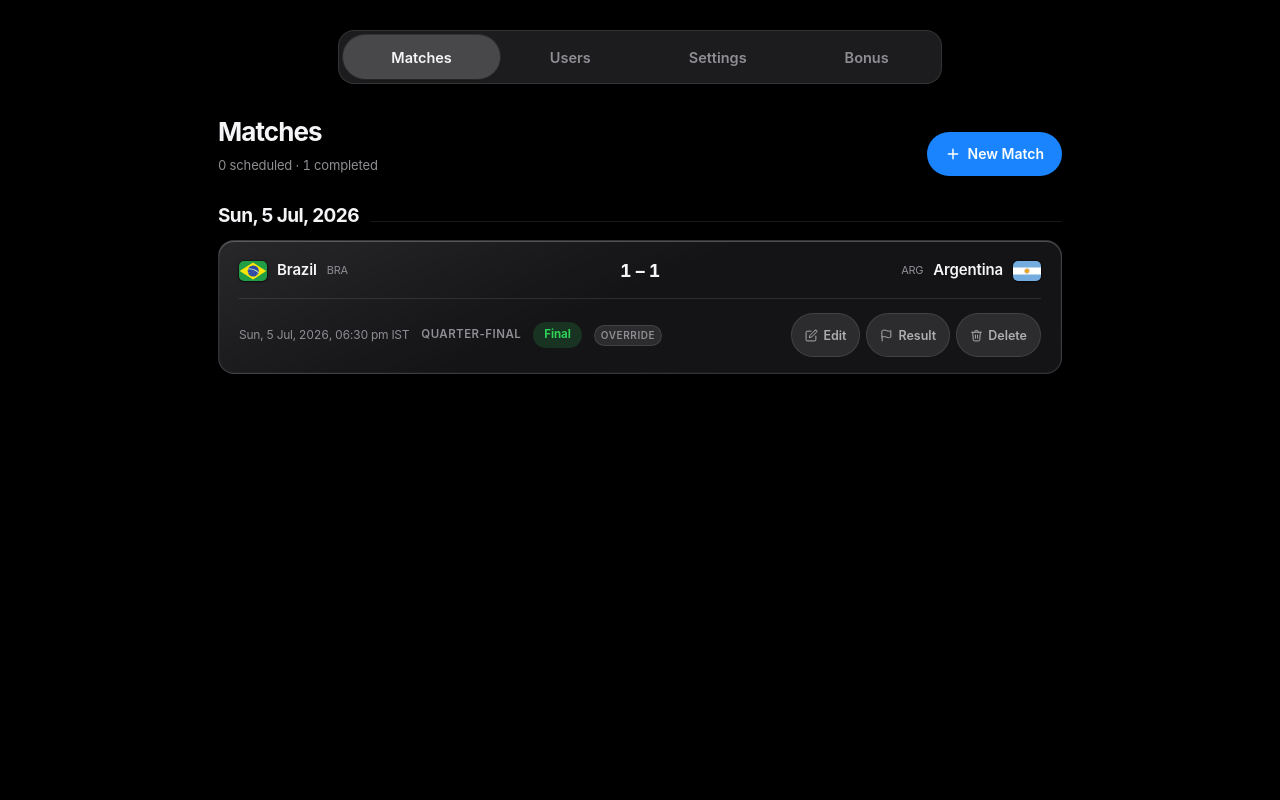
Admin screen — matches tab › reveals penalty-winner picker only when stage=knockout AND went_to_penalties is checked
Click the button with aria-label "Set result for Brazil vs Argentina".
click(908, 335)  # box left=866, top=313, right=950, bottom=357
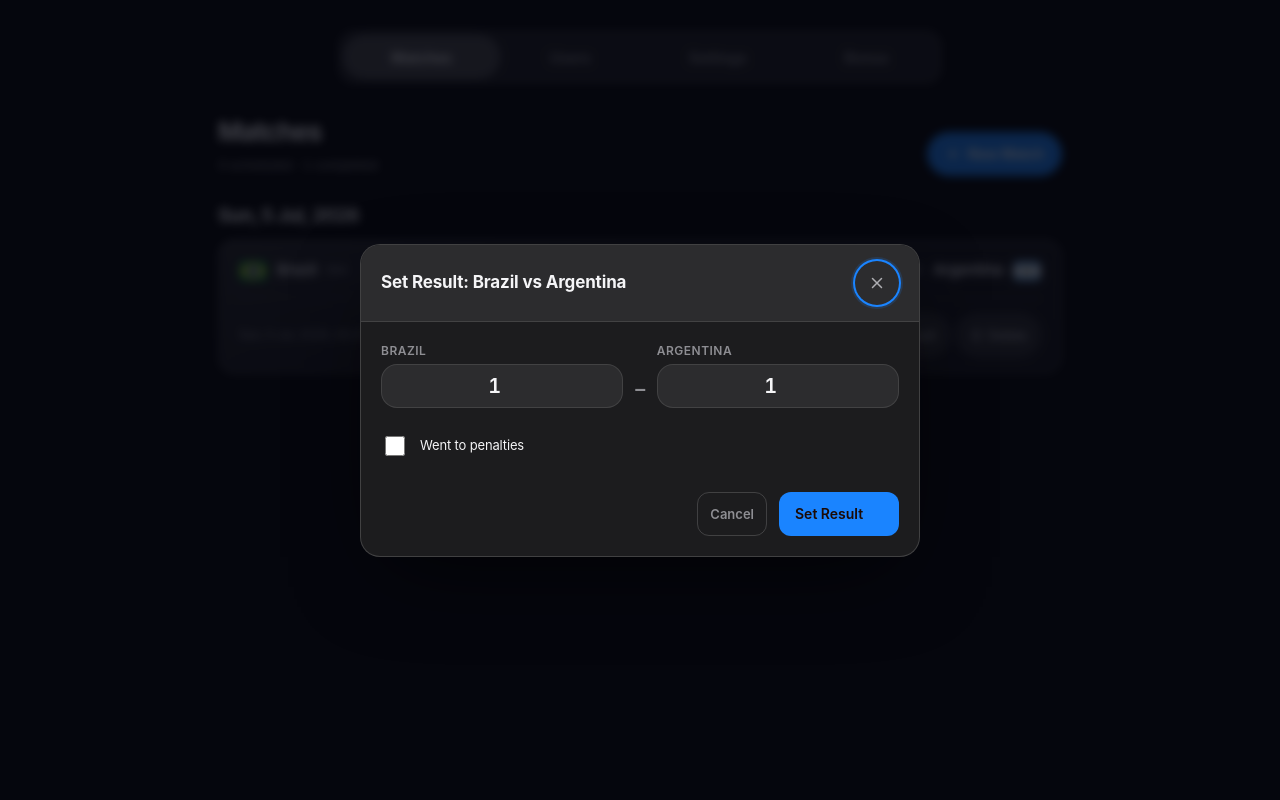
Check: the checkbox named "penalty shootout" is shown
Check the box → picker appears
Click the checkbox named "penalty shootout".
click(395, 446)  # box left=385, top=436, right=405, bottom=456
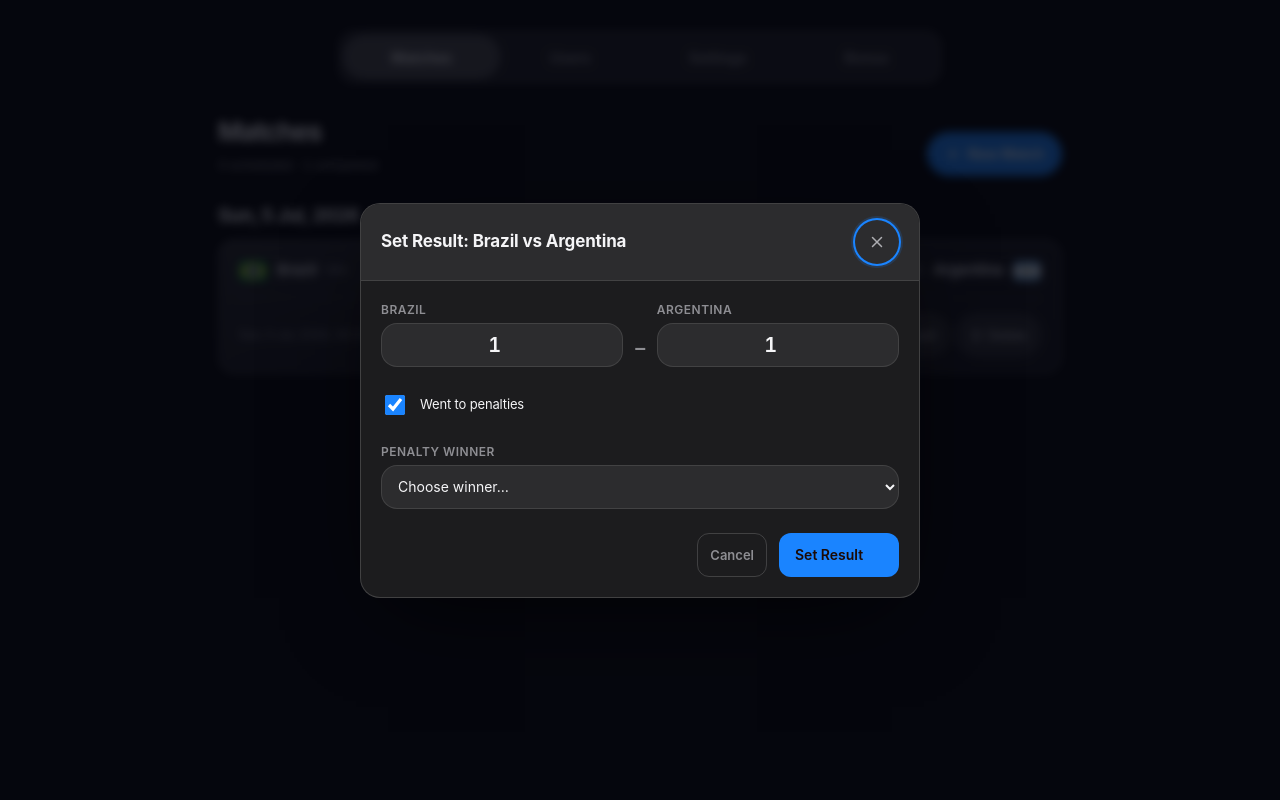
Check: the element with test id "penalty-winner-row" is shown, box left=381, top=442, right=899, bottom=508
Check: the dropdown named "Penalty shootout winner" is shown, box left=381, top=464, right=899, bottom=508
Uncheck → picker disappears
Click the checkbox named "penalty shootout".
click(395, 404)  # box left=385, top=394, right=405, bottom=414
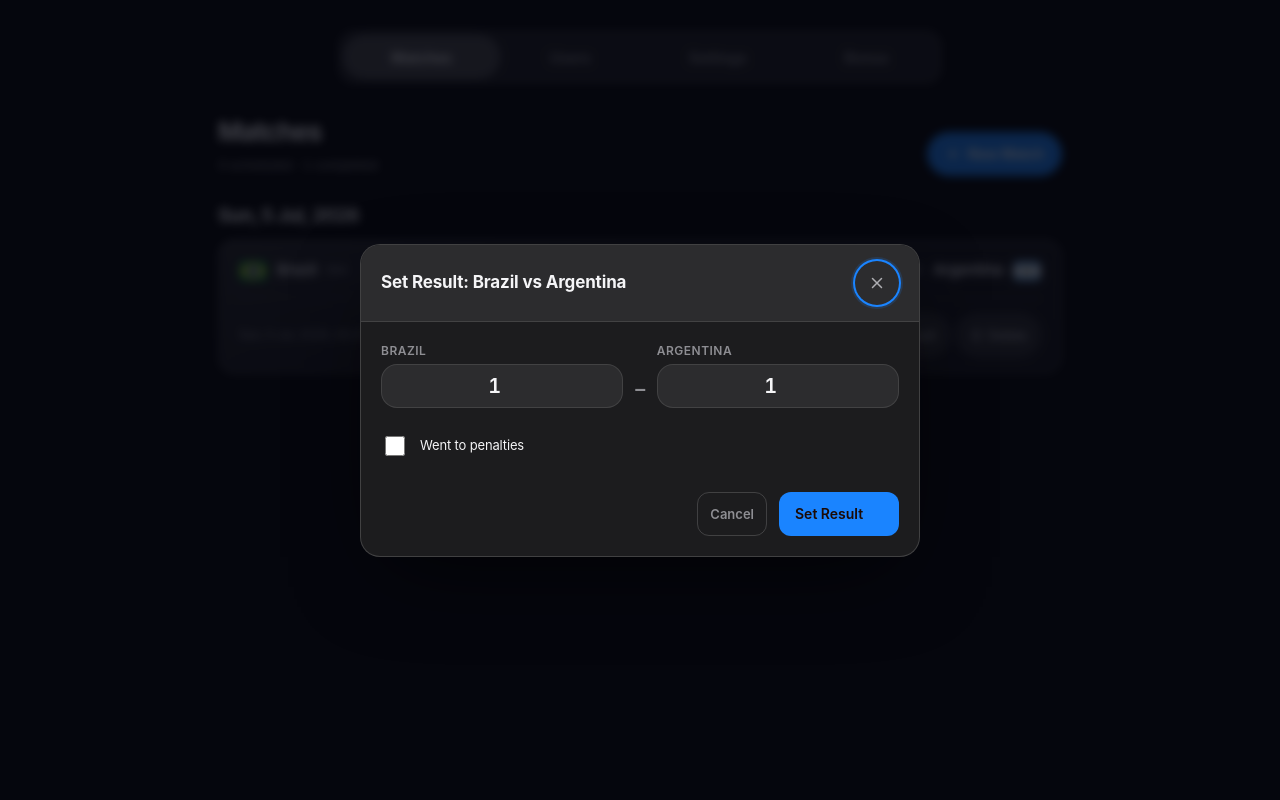
Check: the element with test id "penalty-winner-row" is gone
